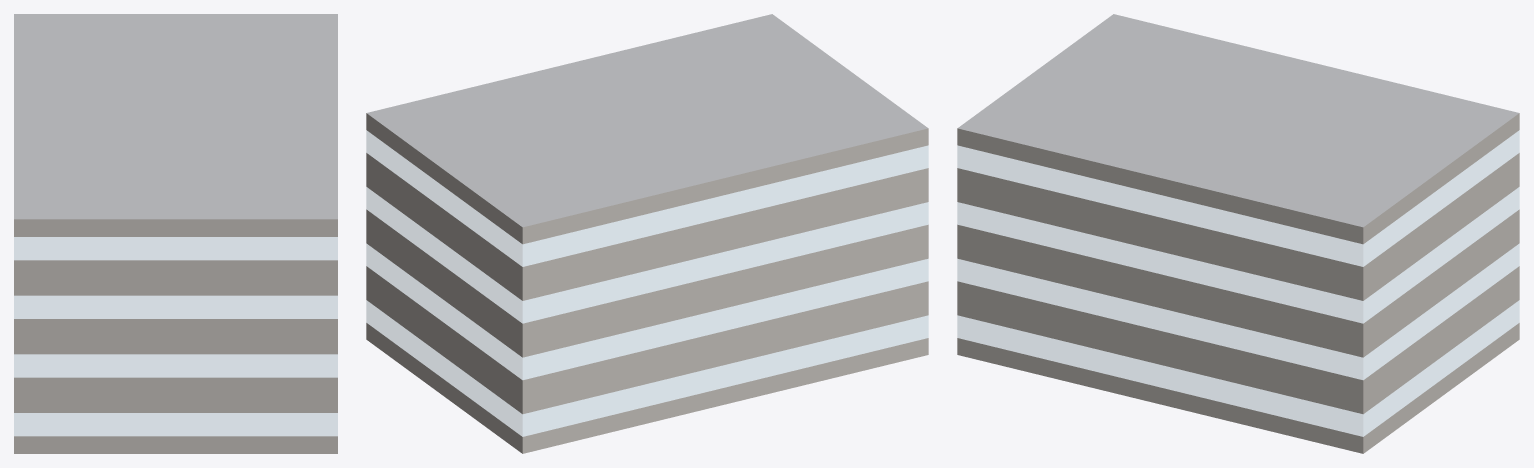
The picture shows the model from 3 angles, left to right: view 1: azimuth 30°, elevation 25°; view 2: azimuth 150°, elevation 25°; view 3: azimuth 270°, elevation 25°; orthographic projection. The views are drawn at different scales.
Visible parts, largest first — view 1: Atap Beton, Dinding Bata, Kaca Jendela; view 2: Dinding Bata, Atap Beton, Kaca Jendela; view 3: Dinding Bata, Atap Beton, Kaca Jendela.
Boxes of the visible parts, x1,y1,x2,y2 form: Atap Beton: (14,14,337,219); Dinding Bata: (14,219,337,453); Kaca Jendela: (14,237,337,435); Dinding Bata: (366,113,928,453); Atap Beton: (367,14,927,227); Kaca Jendela: (366,130,928,436); Dinding Bata: (957,113,1519,453); Atap Beton: (958,14,1518,227); Kaca Jendela: (957,130,1519,436).
Size of the model in its own units: 32.32 by 16 by 35.98.
